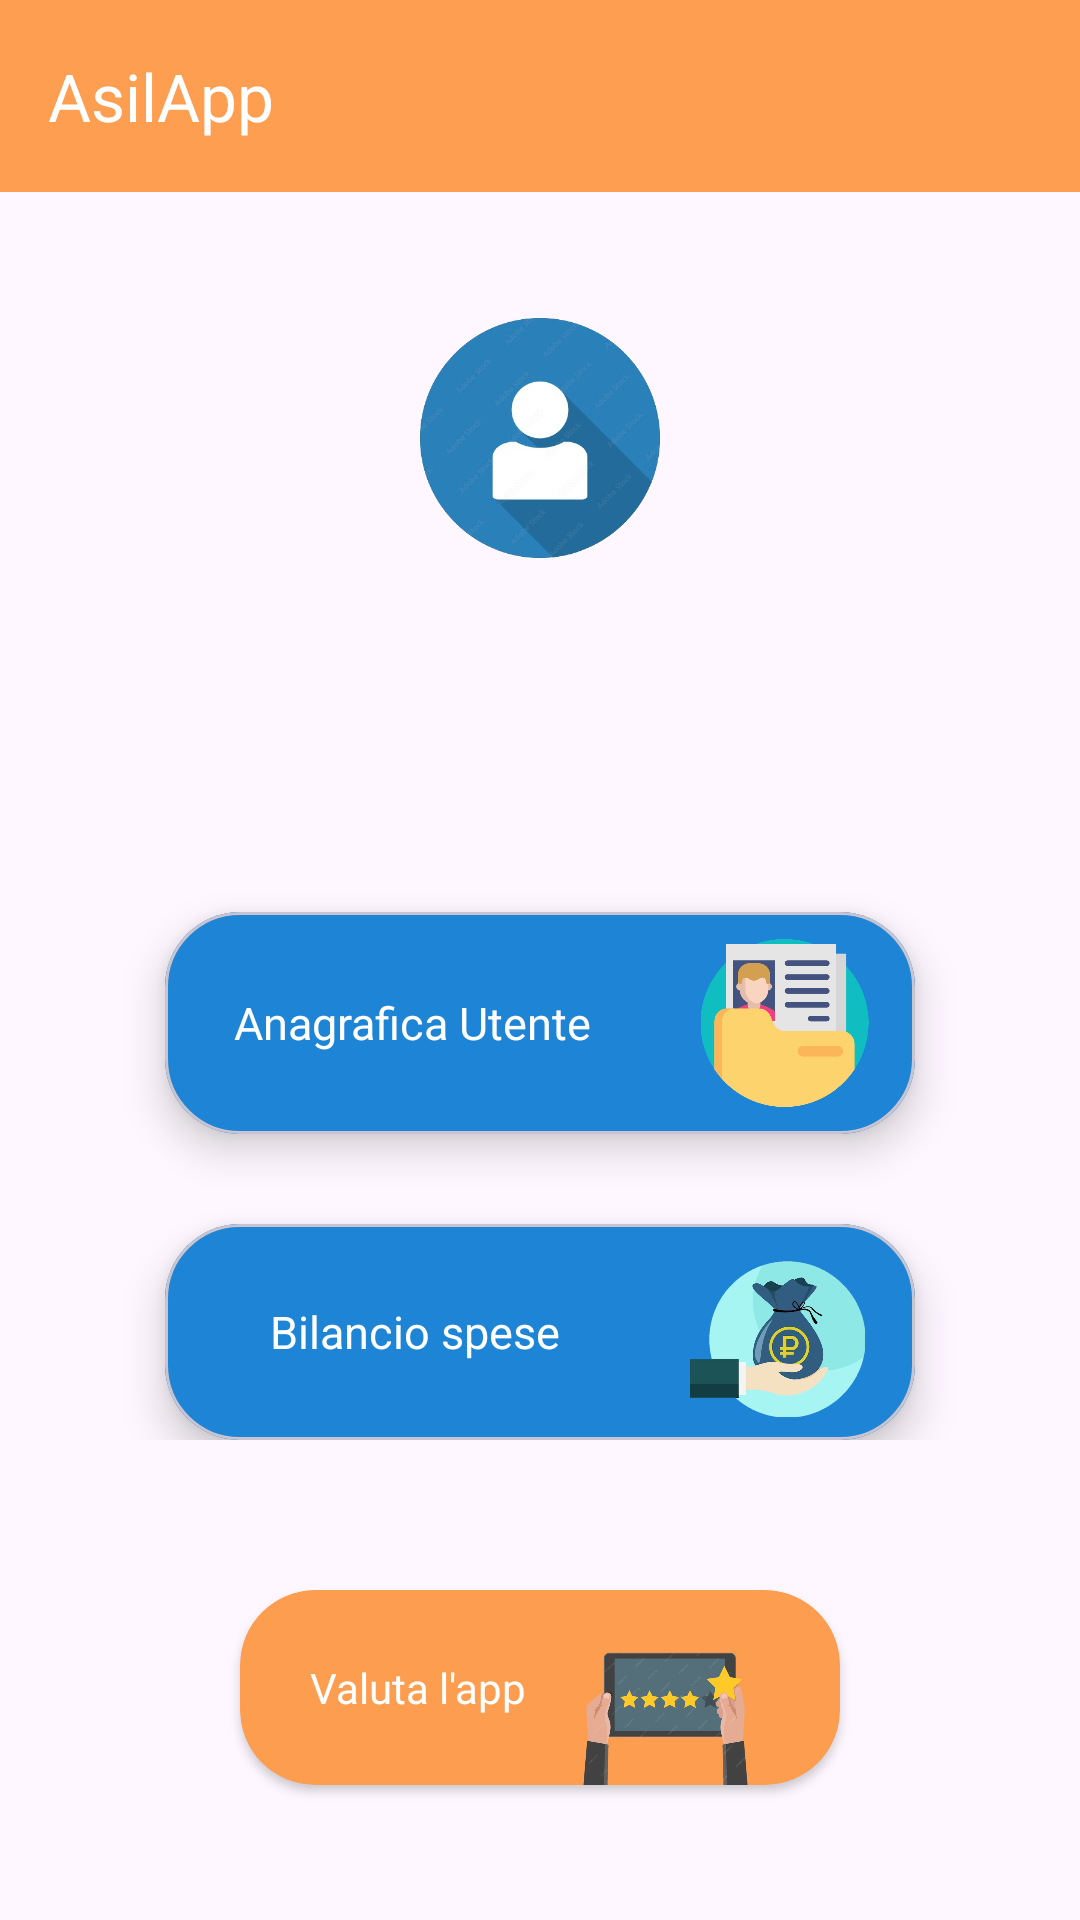

Where to tap for icons on this 1080px x 1920px app screen, as (x,y):
financial help: (787,1332)
profilllle: (540,438)
review app: (665,1719)
